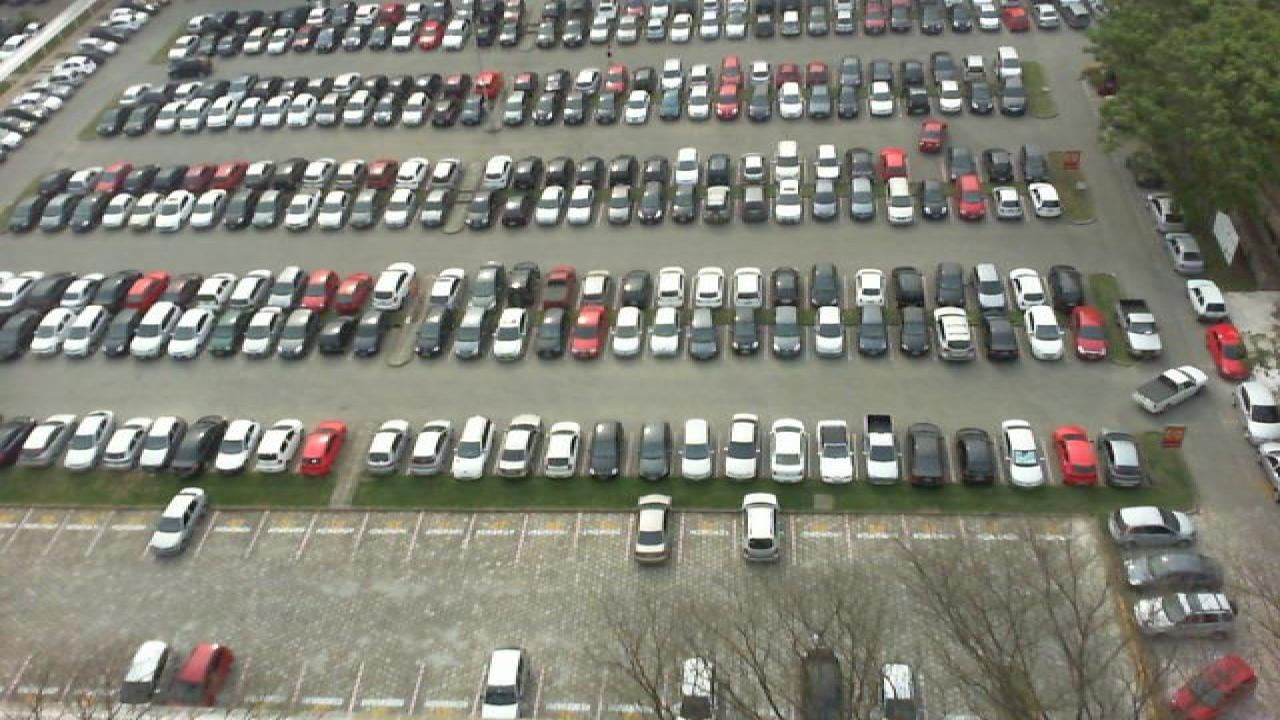Car: (1130, 588, 1238, 634), (144, 486, 208, 558), (472, 646, 534, 720), (166, 642, 232, 711), (1130, 365, 1214, 415), (1124, 549, 1226, 587), (1108, 506, 1198, 549), (116, 639, 172, 707), (626, 493, 676, 566), (736, 491, 786, 564), (998, 417, 1048, 490), (860, 413, 908, 486), (870, 659, 926, 720), (1048, 424, 1102, 487), (812, 416, 862, 484), (142, 416, 198, 475), (950, 422, 1000, 487), (360, 420, 416, 478), (672, 656, 722, 720), (404, 419, 458, 478), (904, 422, 952, 488), (718, 413, 764, 480), (766, 417, 812, 484), (448, 414, 494, 480), (100, 415, 154, 471), (250, 419, 302, 477), (16, 412, 70, 467), (1100, 431, 1152, 488), (54, 414, 106, 470), (206, 419, 258, 474), (158, 301, 208, 358), (1066, 303, 1116, 360), (496, 419, 542, 480), (296, 420, 346, 476), (1112, 304, 1162, 360), (1200, 322, 1248, 380), (538, 420, 584, 480), (110, 304, 160, 359), (582, 420, 626, 482), (28, 304, 78, 358), (66, 304, 116, 358), (1020, 303, 1066, 360), (930, 306, 978, 360), (240, 305, 288, 358), (452, 306, 498, 361), (886, 304, 932, 359), (674, 419, 714, 482), (368, 260, 418, 310), (280, 306, 328, 358), (1180, 278, 1234, 324), (978, 305, 1024, 359), (804, 303, 846, 361), (492, 306, 536, 361), (414, 306, 458, 360), (568, 302, 608, 361), (204, 306, 250, 357), (632, 420, 670, 481), (846, 304, 888, 359), (322, 307, 366, 358), (764, 305, 806, 358), (610, 305, 650, 359), (648, 304, 686, 360), (684, 306, 724, 359), (724, 306, 764, 358), (532, 306, 570, 360), (464, 262, 504, 311), (426, 266, 468, 310), (1006, 264, 1048, 308), (652, 266, 690, 310), (690, 266, 728, 310), (730, 266, 766, 310), (852, 267, 890, 308)
